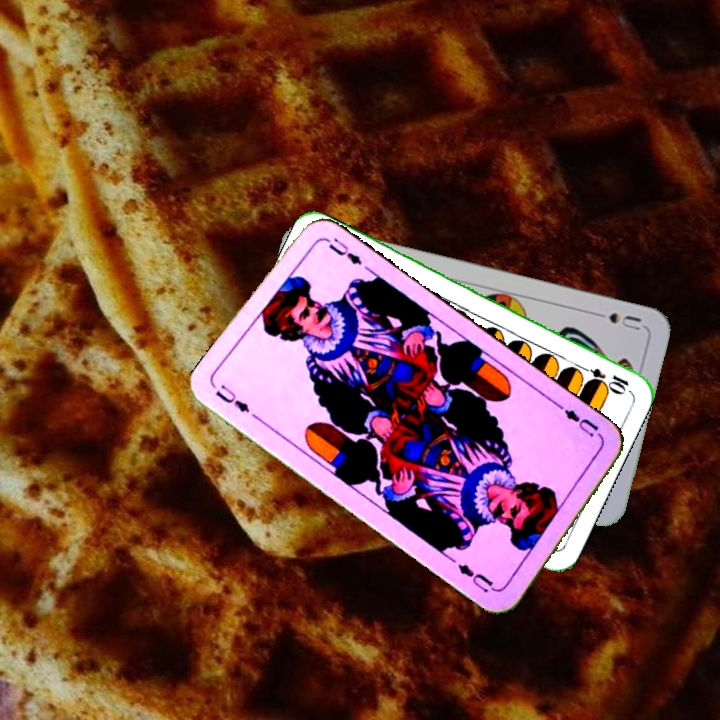E10: (574, 361, 632, 395)
EU: (555, 401, 602, 440), (211, 380, 252, 415)
SU: (587, 308, 644, 333)
